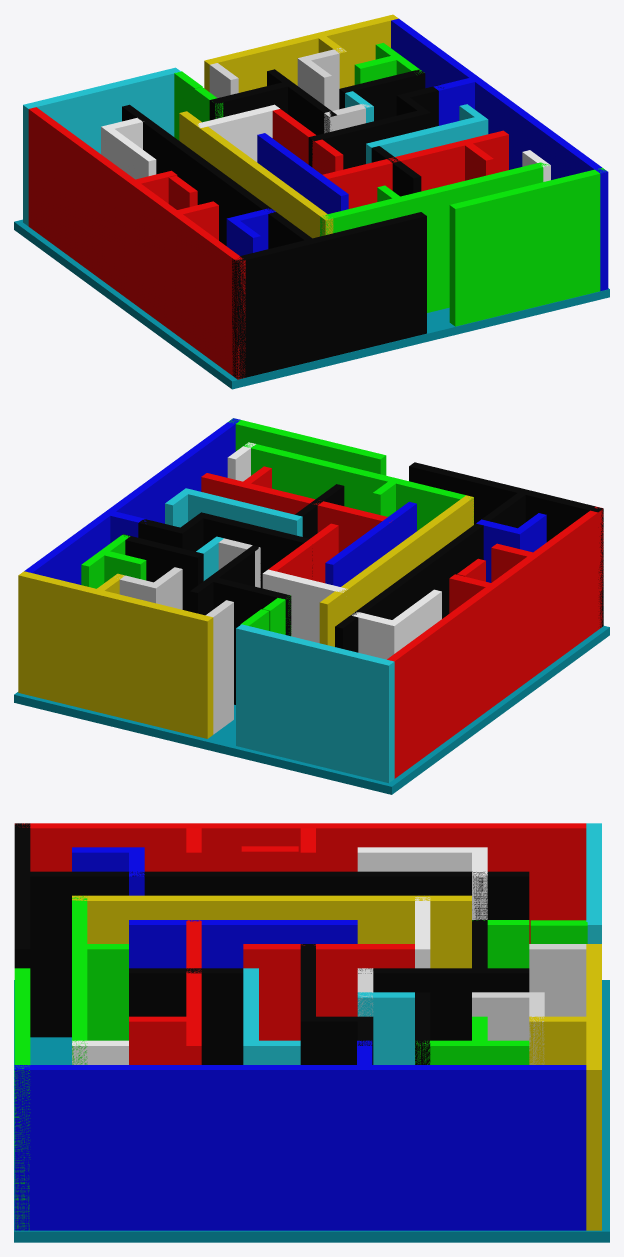
File: maze.gltf
The picture shows the model from 3 angles, top to bottom: view 1: azimuth 30°, elevation 25°; view 2: azimuth 150°, elevation 25°; view 3: azimuth 270°, elevation 25°; orthographic projection. The views are drawn at different scales.
Parts seen in each view (by area): view 1: Plane; view 2: Plane; view 3: Plane.
Boxes of the visible parts, x1,y1,x2,y2 form: Plane: (14, 14, 609, 389); Plane: (14, 418, 609, 794); Plane: (14, 823, 609, 1242).
Size of the model in its own units: 77.02 by 24.48 by 77.02.
